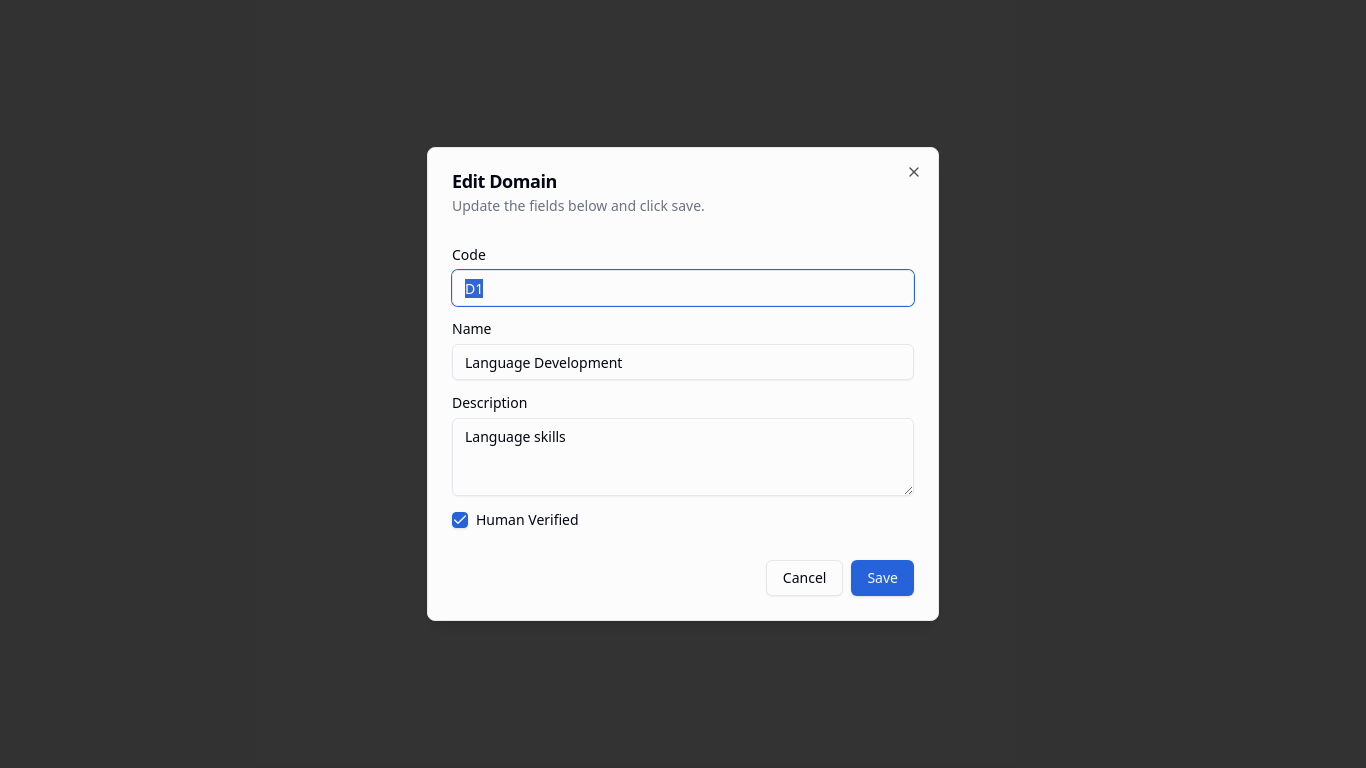
EditModal › error message displays on save failure
Click the button "Save".
click(883, 578)  # box [851, 560, 914, 596]
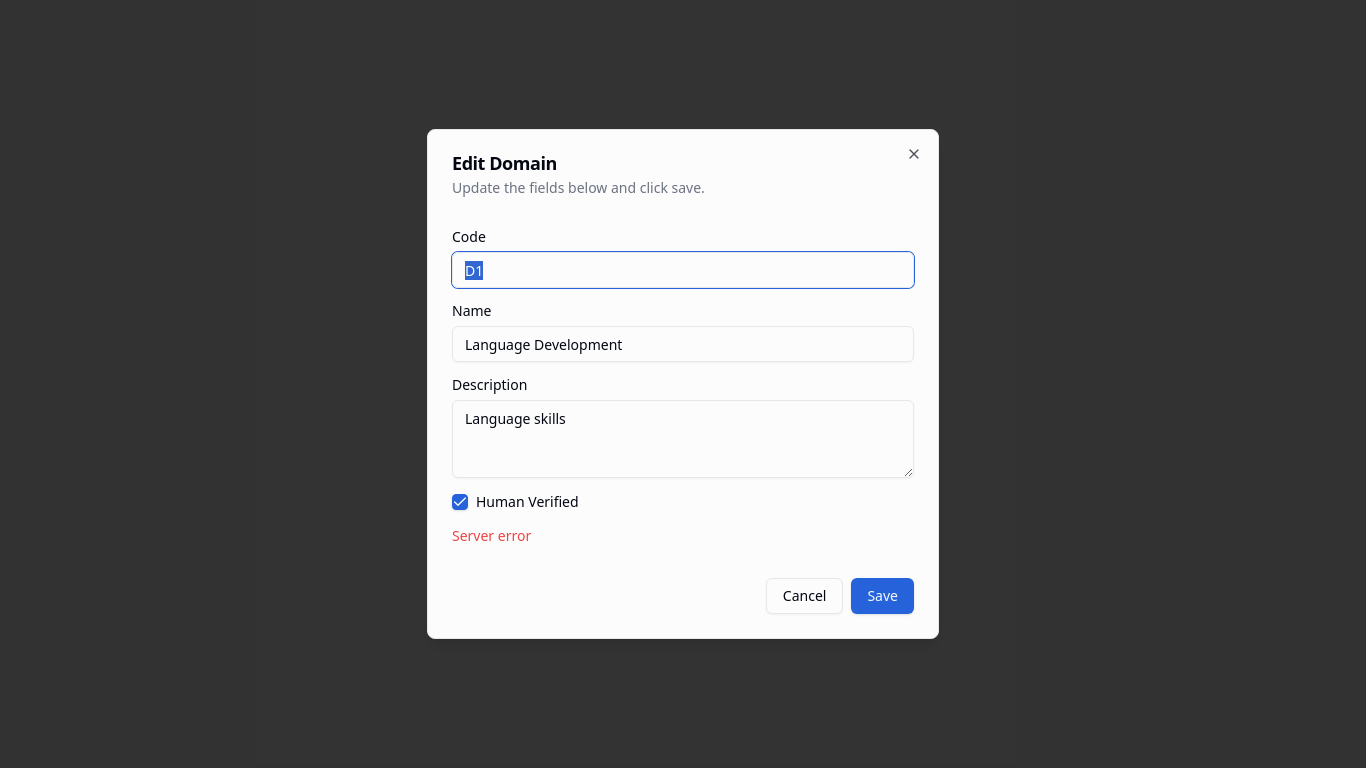
Expected: the message reads "Server error", [452, 526, 531, 545]
